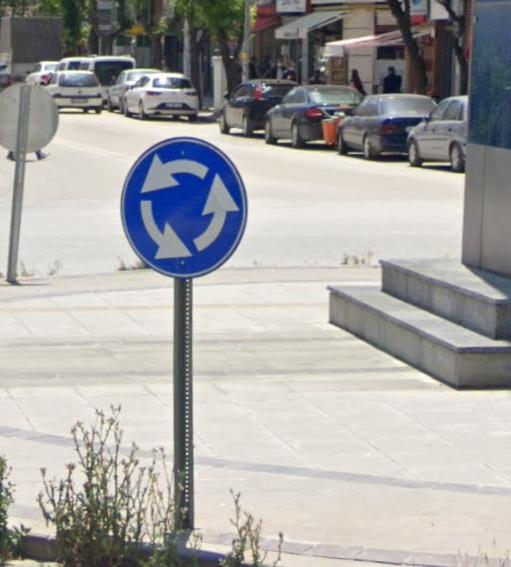crossroads: (121, 137, 250, 280)
